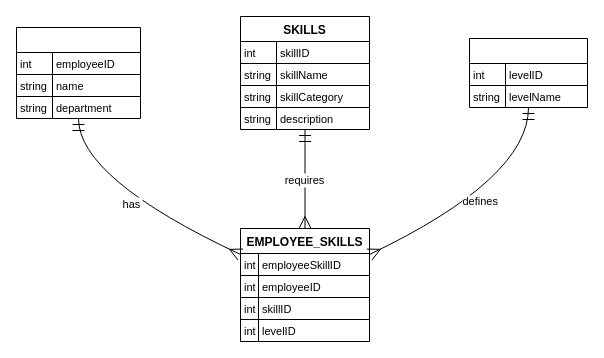
Image size: 604x358. Some labels were removed from this diagram. Each missing label, with the box of its shape:
EMPLOYEES: (16, 26, 140, 118)
SKILL_LEVELS: (468, 38, 588, 108)
